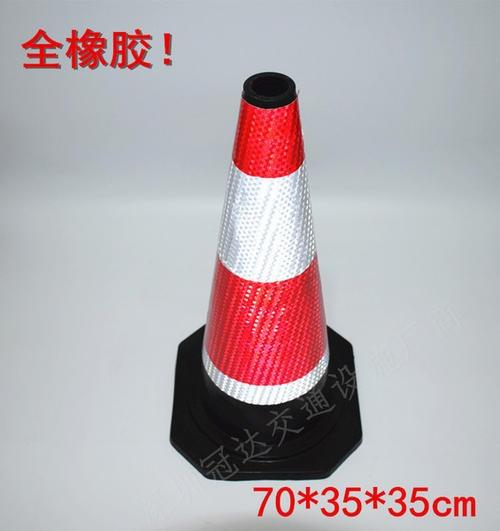cone_barrel: (166, 79, 364, 474)
